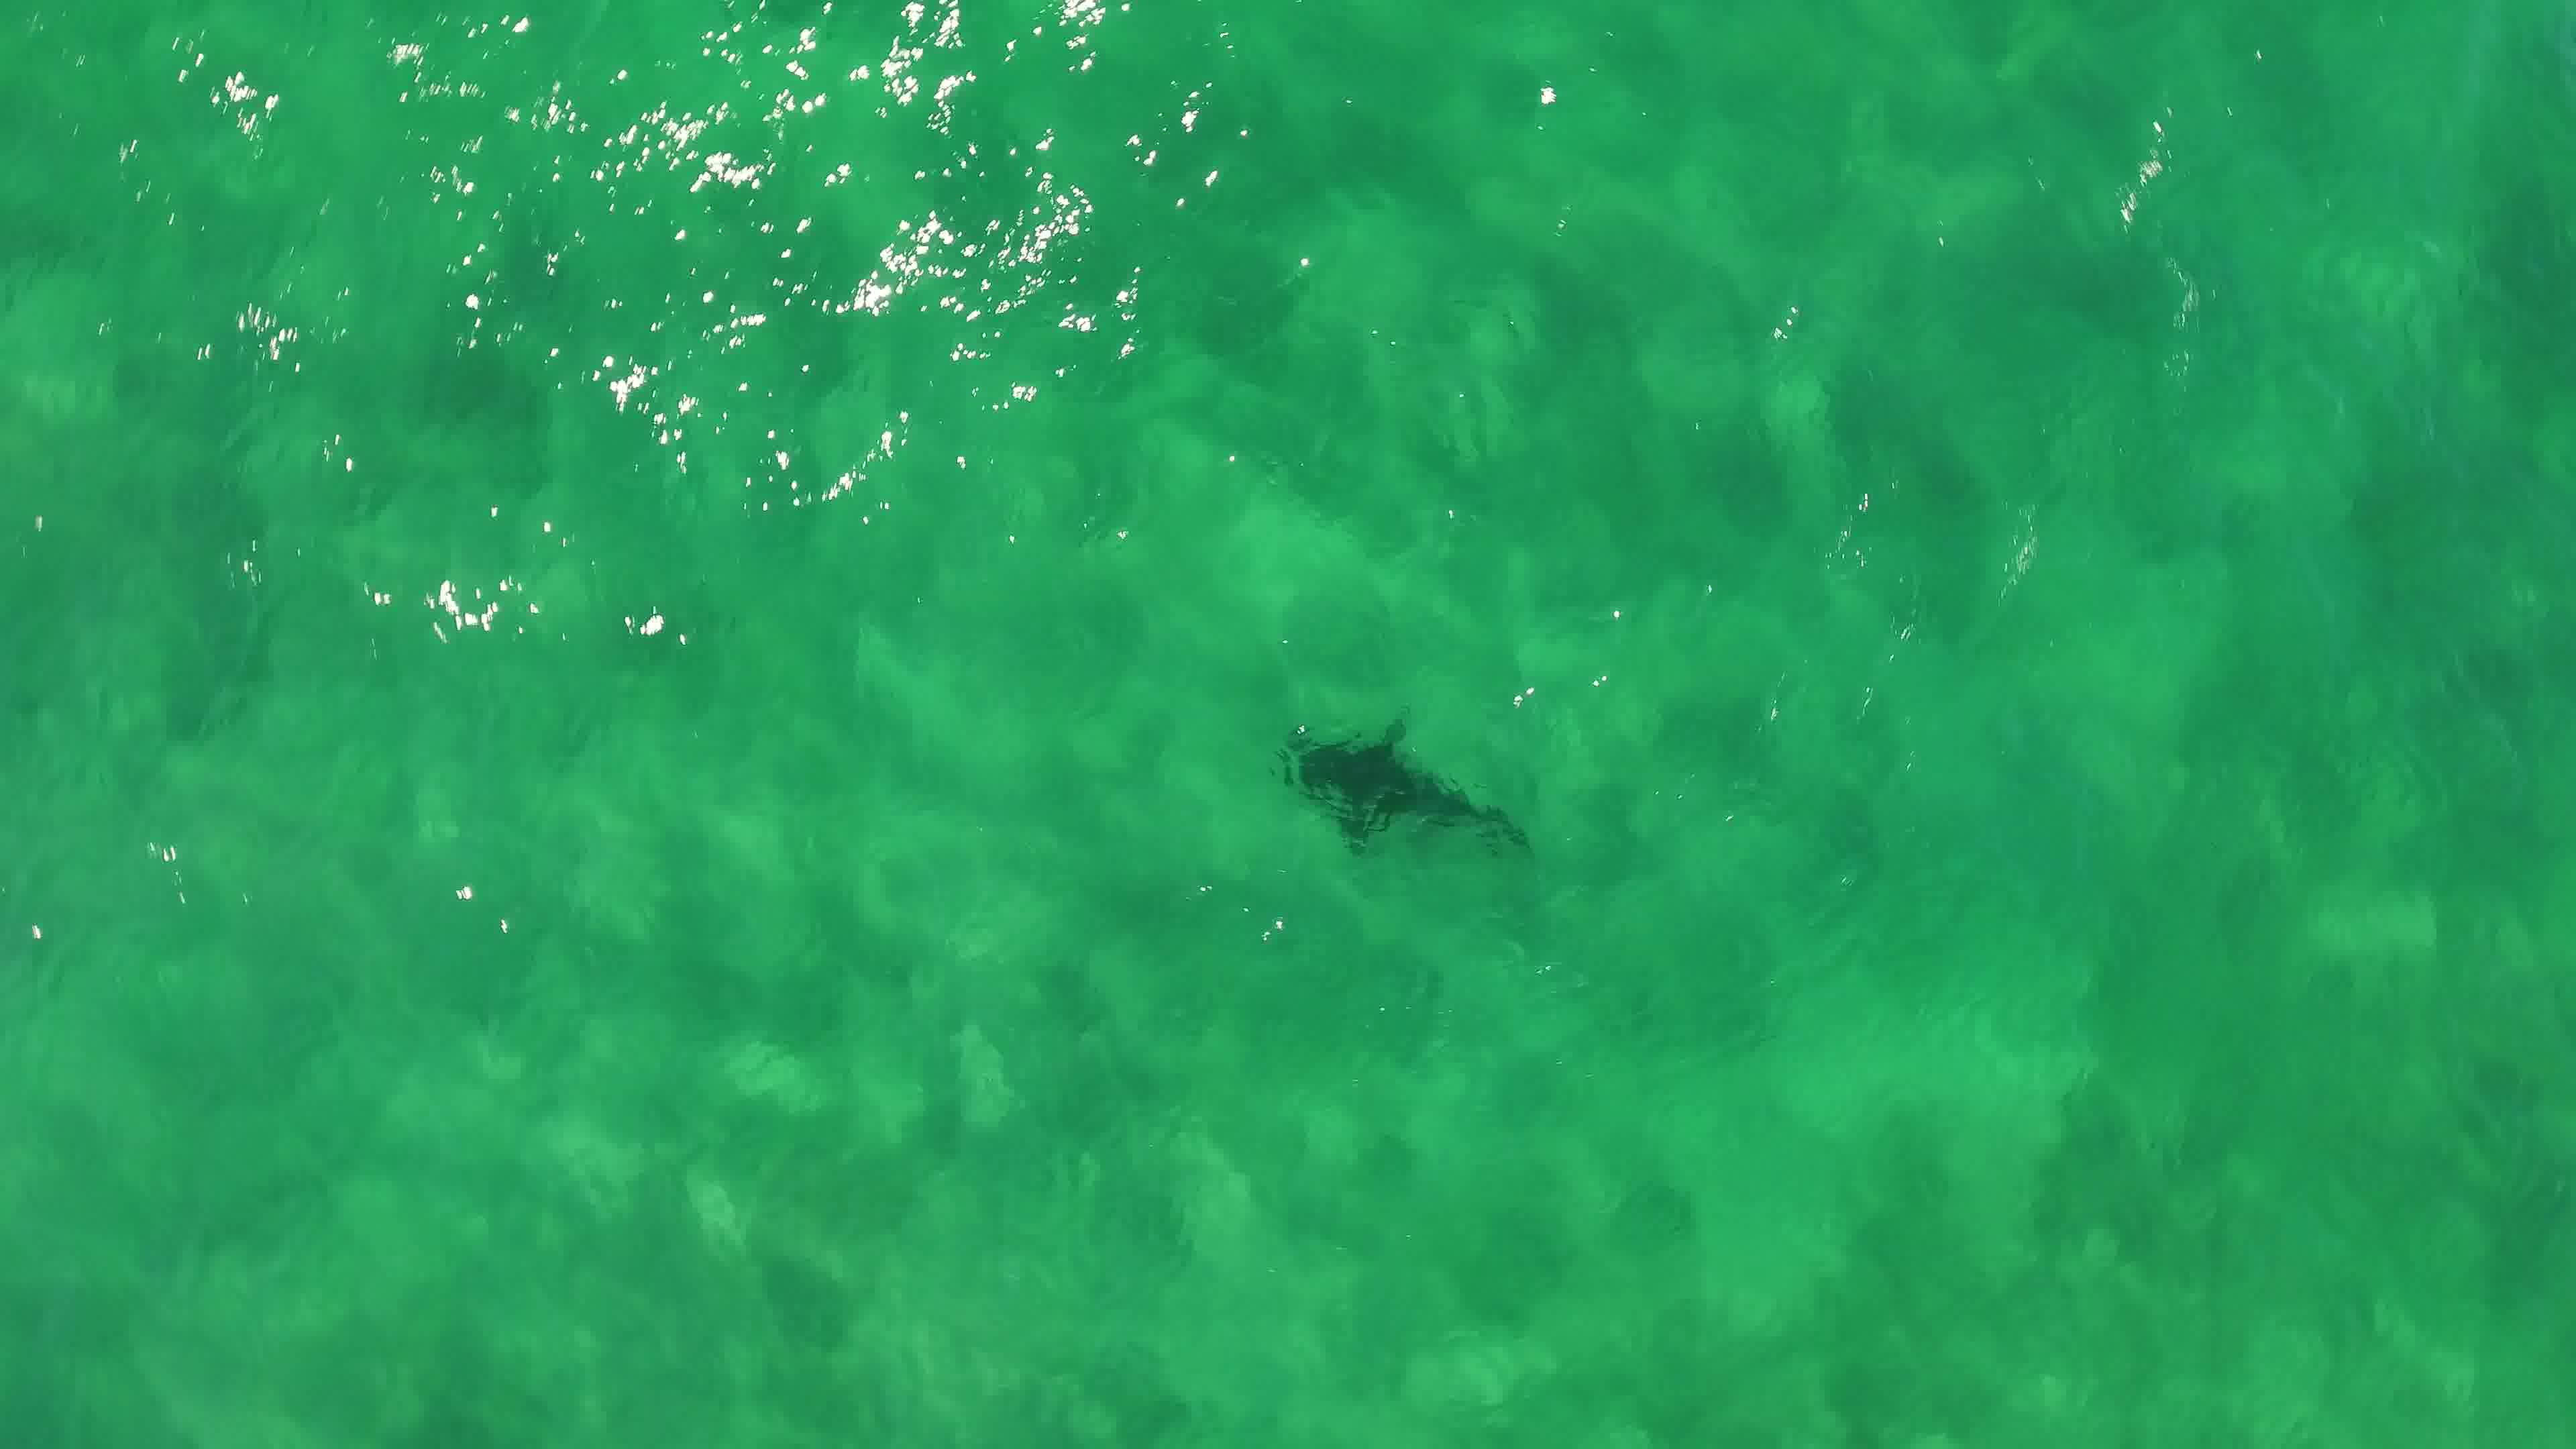shark: (1270, 713, 1539, 865)
